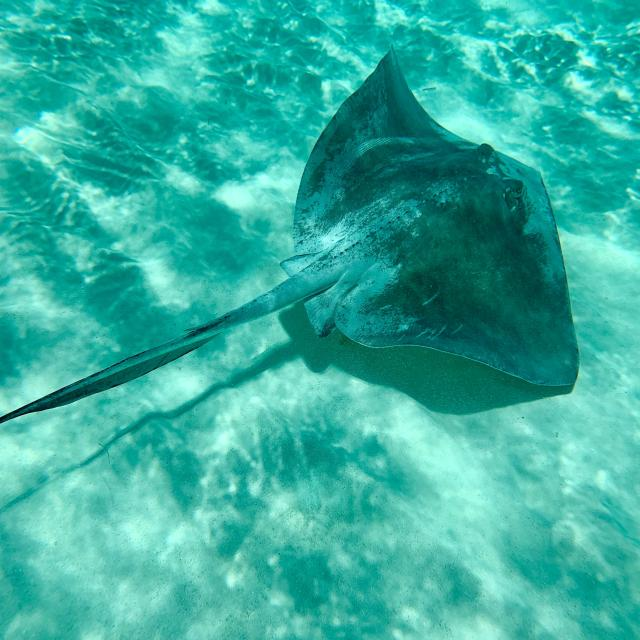stingray: (0, 50, 579, 422)
